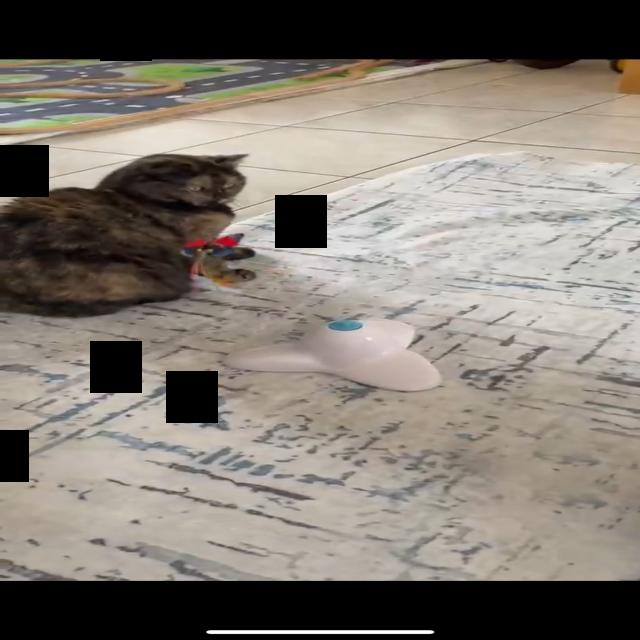authorized: (0, 152, 250, 318)
